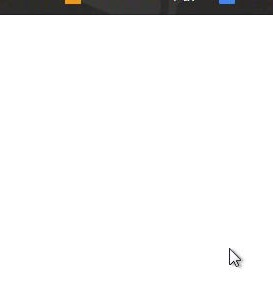cursor: (228, 246, 243, 268)
